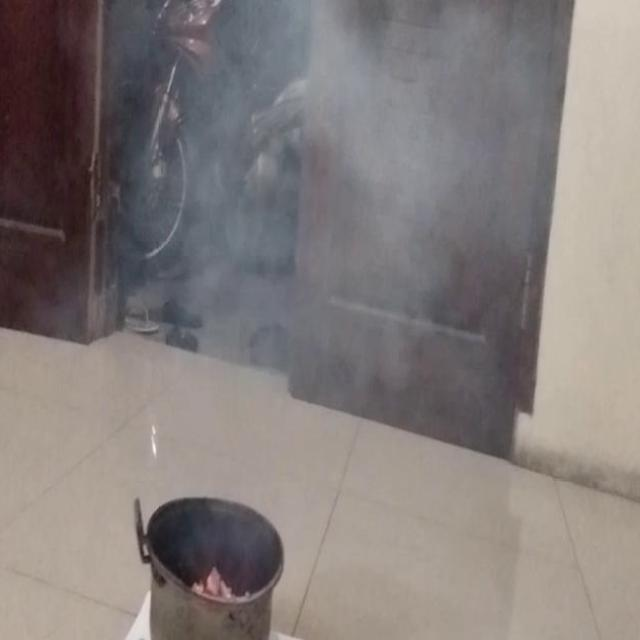fire: (124, 0, 510, 385)
